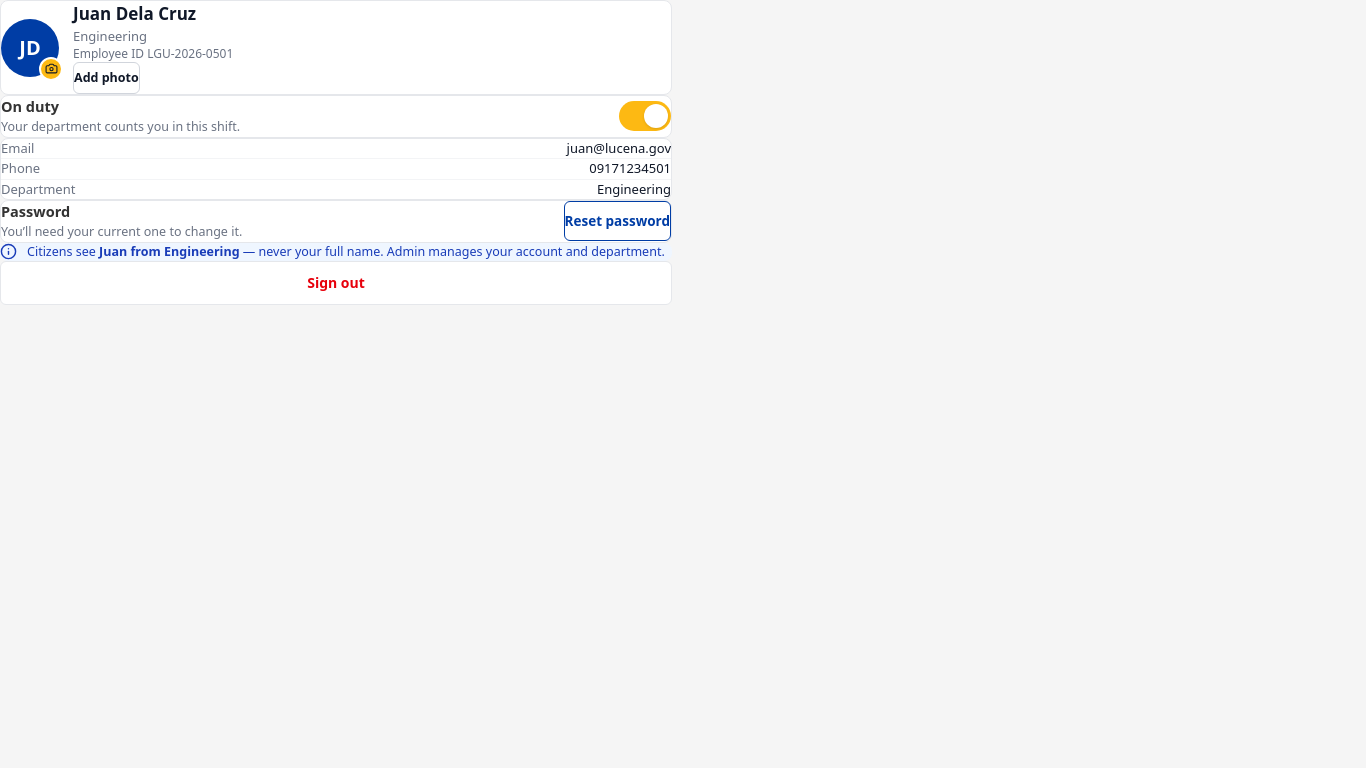
Scenario: /responder/profile sign-out › keeps the browser subscription when the sign-out itself fails
Click the button "Sign out".
click(336, 283)  # box top-left (0, 261), bottom-right (672, 305)
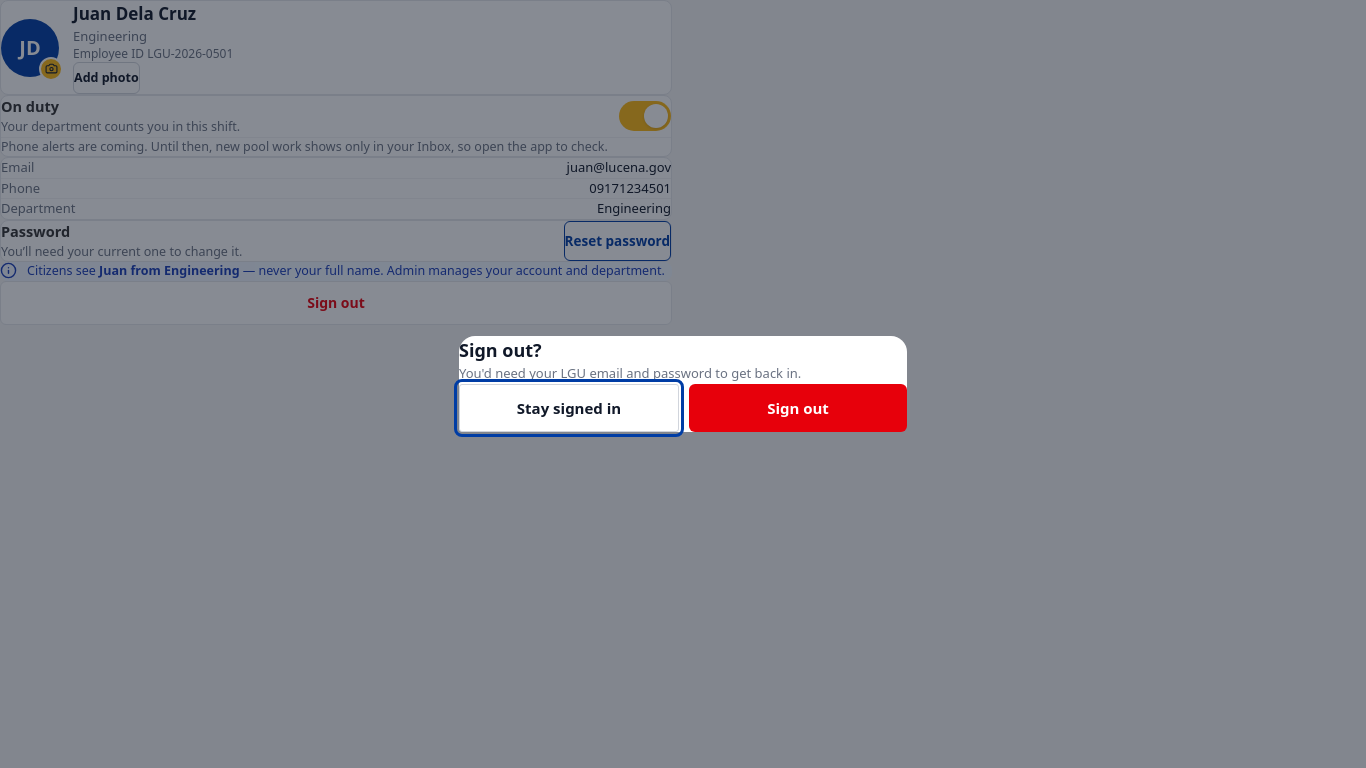
Click the button "Sign out" below "Sign out?".
click(798, 408)  # box top-left (689, 384), bottom-right (907, 432)
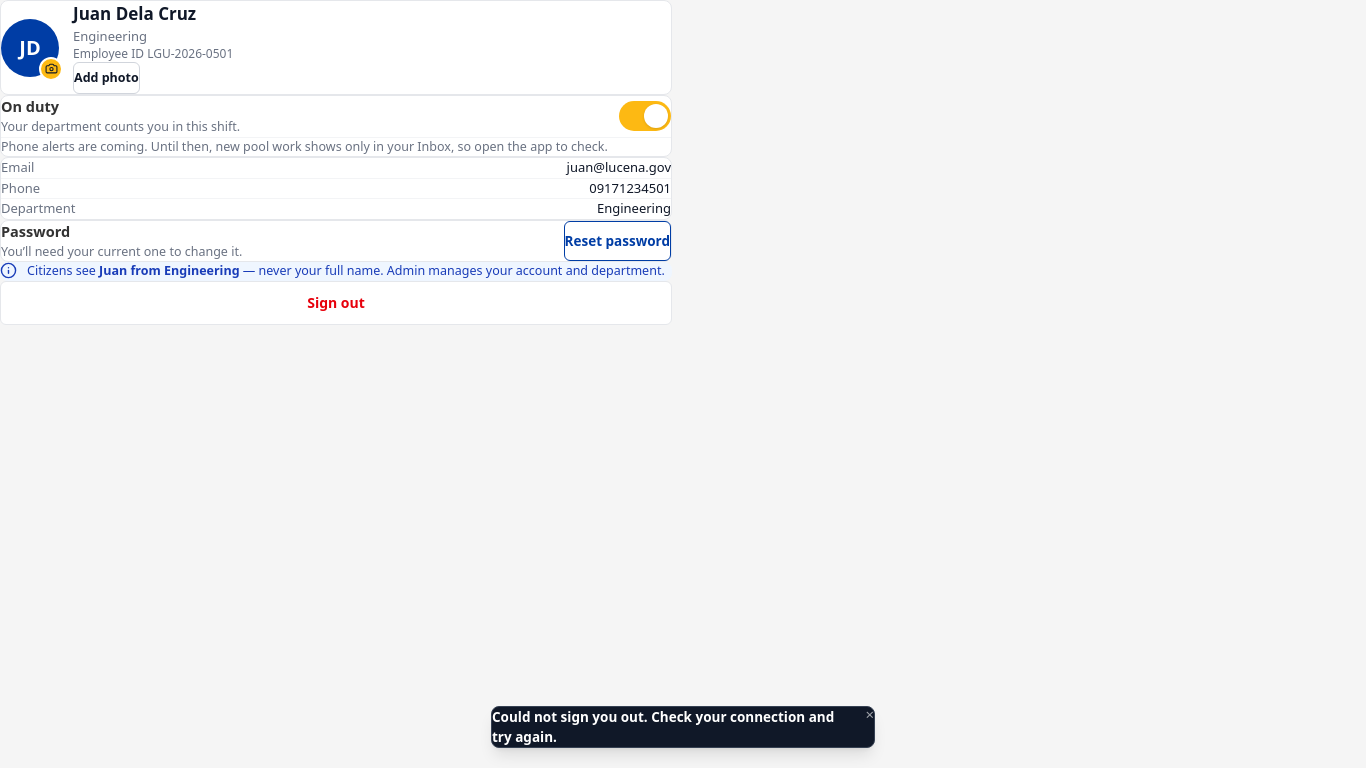
Expected: the text "Could not sign you out. Check your connection and try again." is shown, top-left (492, 706), bottom-right (855, 747)
